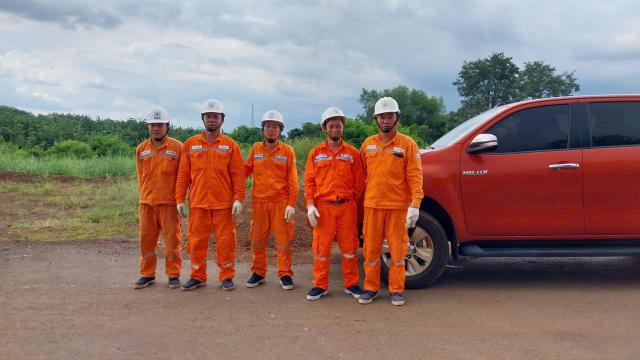gloves: (401, 206, 422, 230), (305, 203, 323, 229), (282, 203, 294, 225), (176, 205, 190, 222), (232, 199, 241, 219)
helmet: (367, 94, 406, 118), (259, 104, 292, 129), (196, 93, 227, 119), (144, 102, 176, 127), (318, 104, 347, 127)
shoes: (180, 271, 213, 290), (305, 281, 332, 304), (242, 272, 274, 288), (358, 286, 383, 305), (129, 274, 160, 289), (387, 288, 411, 307), (343, 280, 362, 299), (279, 270, 294, 291), (219, 278, 238, 293), (169, 272, 180, 288)
